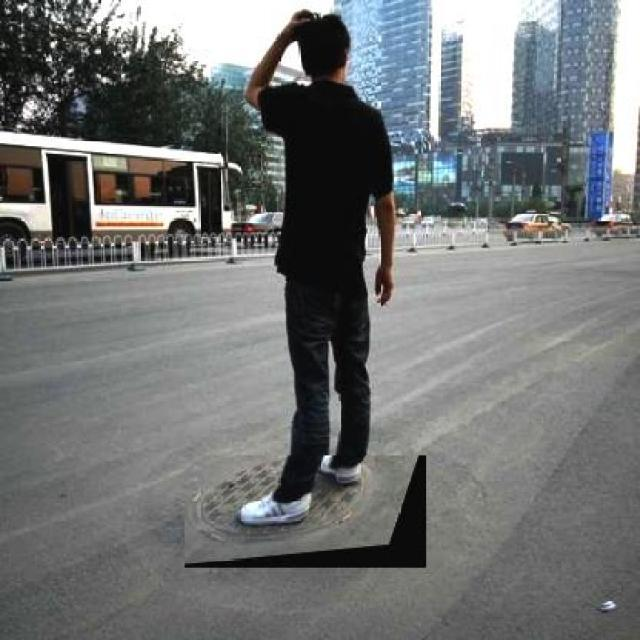Manhole: (185, 455, 426, 568)
